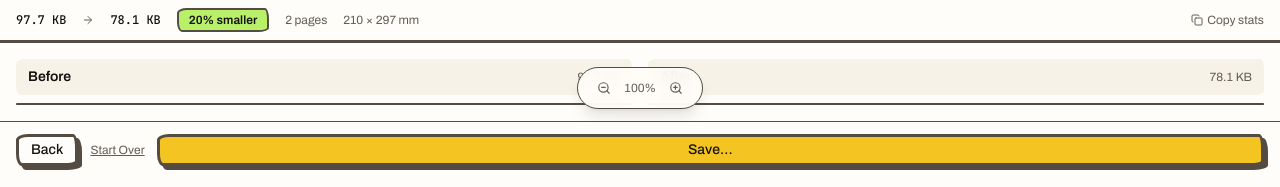
Test: CompareStep — zoom controls › zoom-in advances to 150%
Click the button named "zoom in".
click(676, 88)  # box [662,74,690,102]
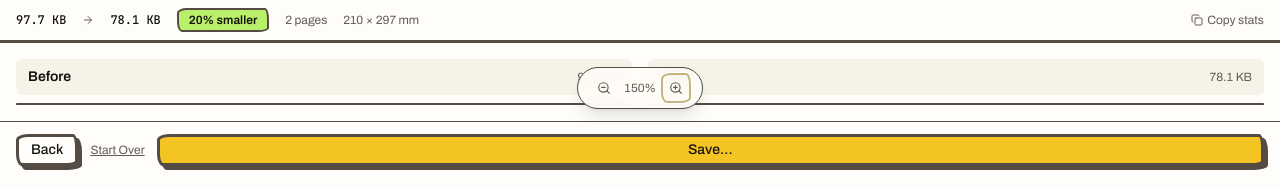
Check: the text "150%" is shown, box [622,80,658,96]
